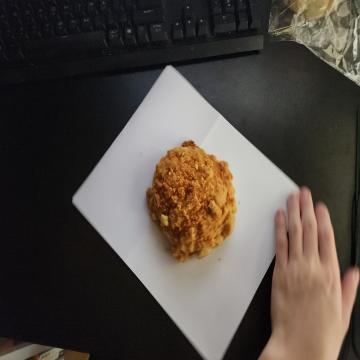soboru_bread: (146, 141, 236, 265)
